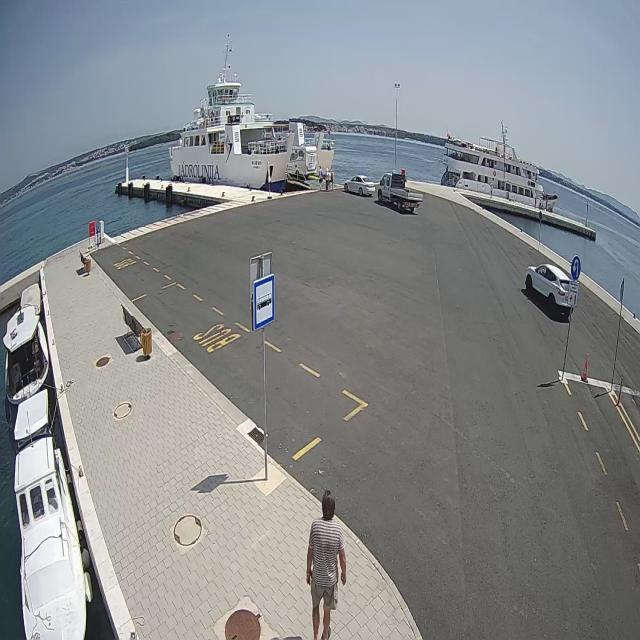car: (520, 239, 580, 334), (342, 164, 378, 208)
small bus: (285, 129, 322, 183)
truck-s-: (376, 156, 426, 225)
